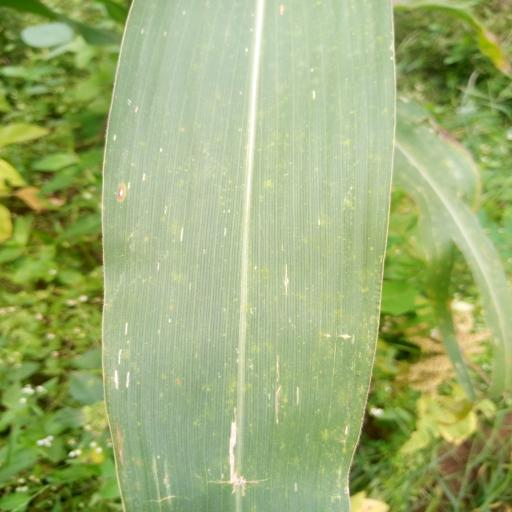Corn_Chlorotic_Leaf_Spot: (94, 0, 412, 512)
